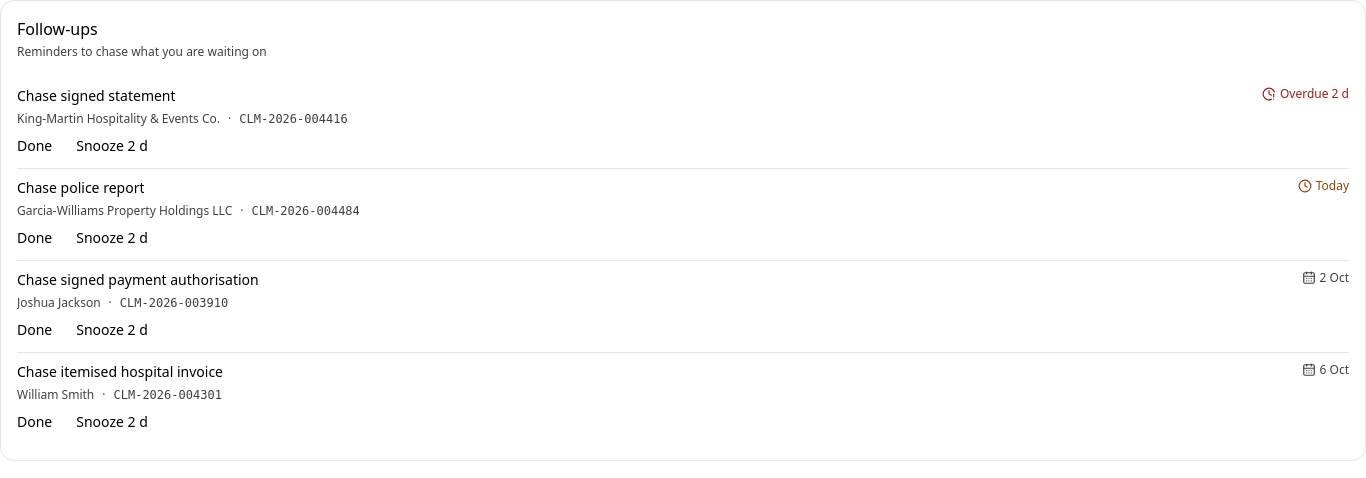
Test: FollowUpList › Snooze › an overdue follow-up is snoozed from today, so it is no longer overdue
Step 1. Click the button "Snooze 2 d" below "Chase signed statement" → (112, 146), box [66, 132, 158, 160]
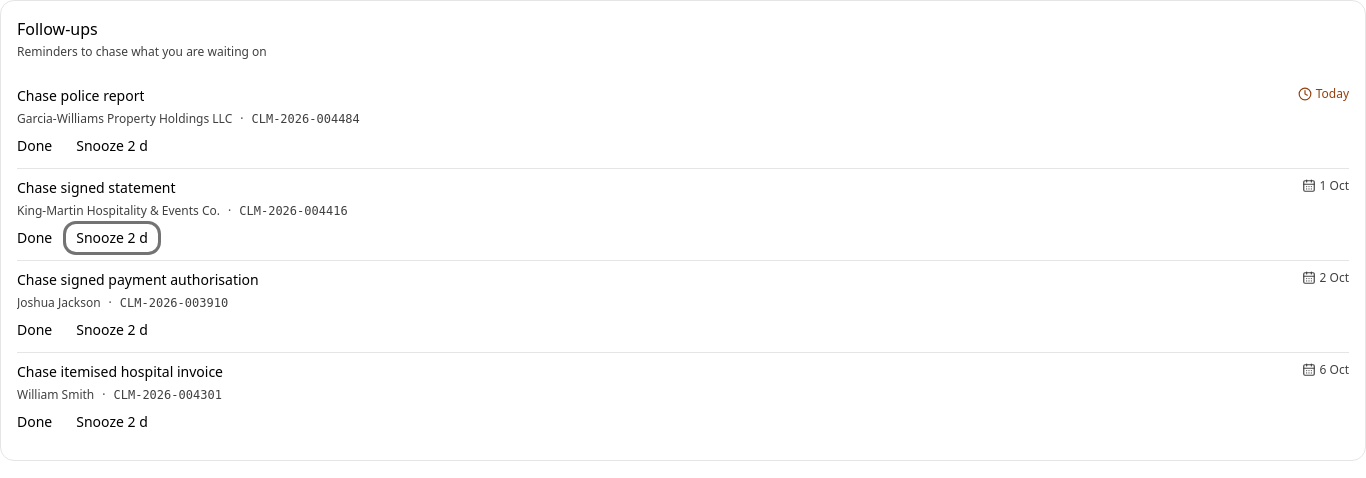
Check: the text "Chase police report" is shown, box [17, 85, 144, 106]
Check: the list item that starts with "Chase signed statement" shows "1 Oct", box [1320, 177, 1349, 194]
Check: the list item "Overdue 2 d" no longer shows "Overdue"
